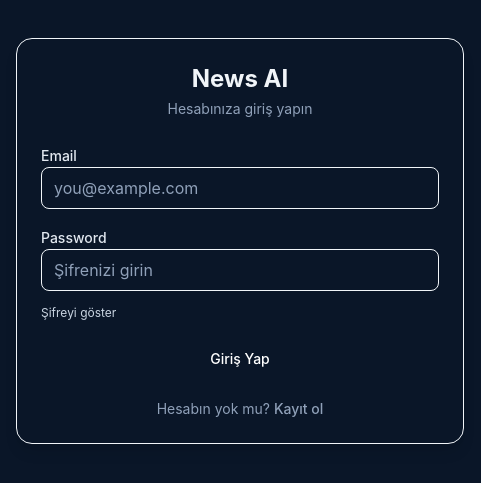
Test: shows error when submitting empty form
The image size is (481, 483).
Click the button "Giriş Yap".
click(240, 359)  # box 41,339 -> 439,379
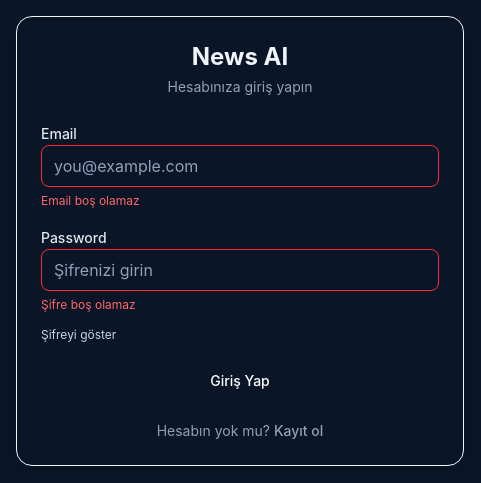
Check: the text "Email boş olamaz" is shown, box 41,193 -> 140,208
